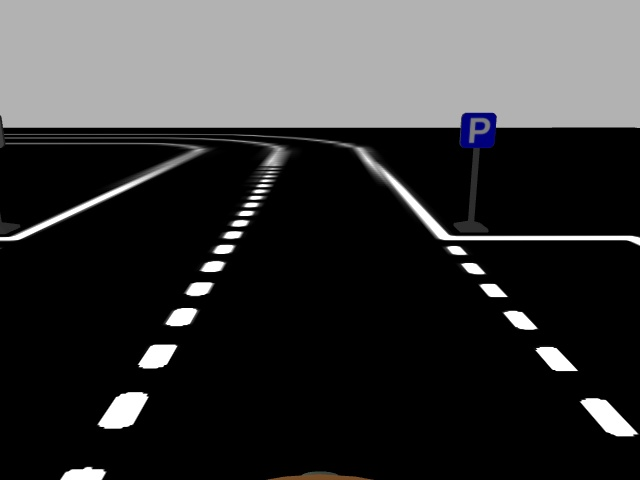parking: (458, 112, 497, 149)
